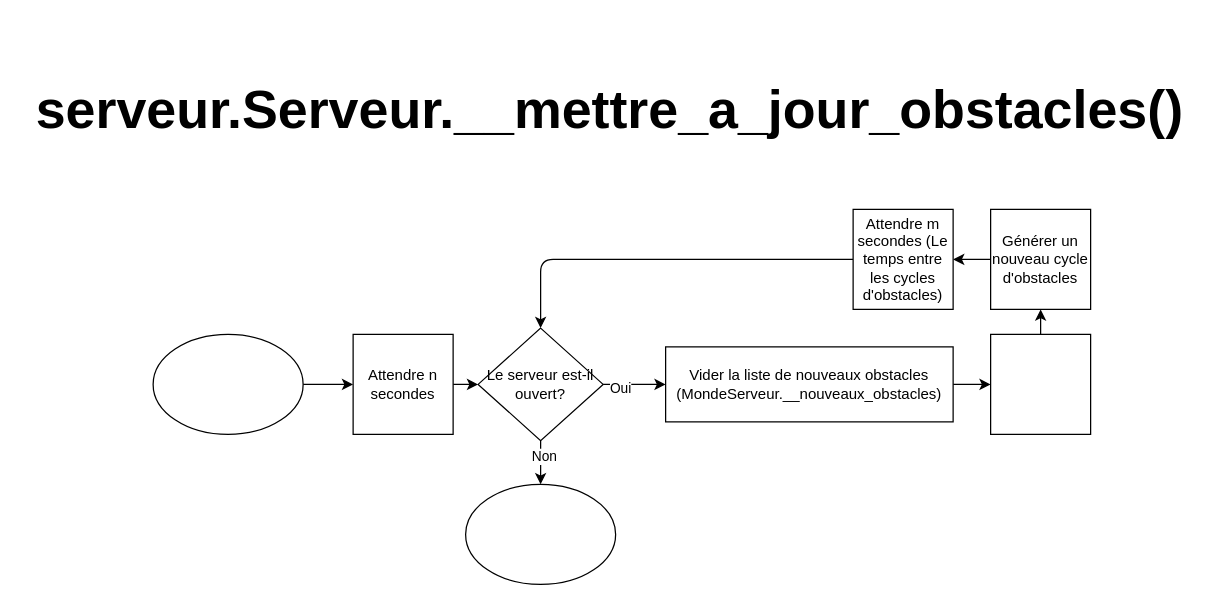
This 1218x606 diagram has some shape labels left out. The centre of each missing label's shape, as x and y in pixels:
Début du serveur: the point at 227,383
Fin: the point at 540,533
Nettoyer les obstacles: the point at 1040,383
